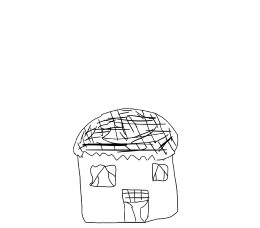bottom_placed_house: (1, 2, 255, 228)
door: (121, 184, 153, 225)
open_window: (88, 162, 120, 190), (147, 161, 172, 184)
roof: (63, 98, 183, 162)
small_house: (0, 2, 260, 228)
wall: (74, 146, 182, 226)
